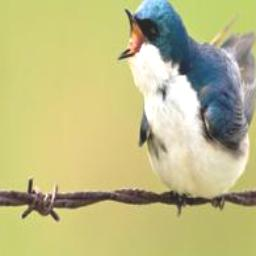Swallow: (113, 0, 256, 215)
